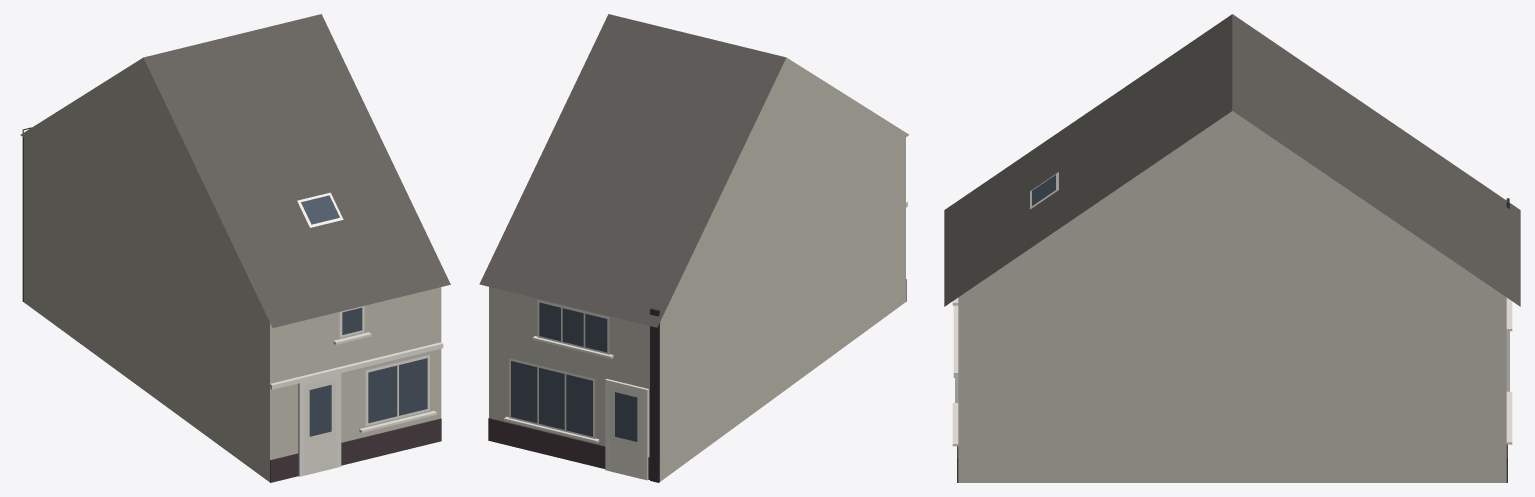
The model's file is nw-ee-band-row__band__2__gable__long__solid__f0d1__mirror.glb.
3 views of the same model, side by side, from view 1: azimuth 30°, elevation 25°; view 2: azimuth 150°, elevation 25°; view 3: azimuth 270°, elevation 25° (orthographic). The views are drawn at different scales.
Visible parts, largest first — view 1: nw-ee-band-row__band__2__gable__long__solid__f0d1__mirror; view 2: nw-ee-band-row__band__2__gable__long__solid__f0d1__mirror; view 3: nw-ee-band-row__band__2__gable__long__solid__f0d1__mirror.
Part boxes in pixels (x1,y1,x2,y2): nw-ee-band-row__band__2__gable__long__solid__f0d1__mirror: [20, 14, 450, 482]; nw-ee-band-row__band__2__gable__long__solid__f0d1__mirror: [479, 14, 909, 482]; nw-ee-band-row__band__2__gable__long__solid__f0d1__mirror: [944, 14, 1520, 482].
Bounding box in the file's own units: 4.99 × 8.98 × 12.54.
